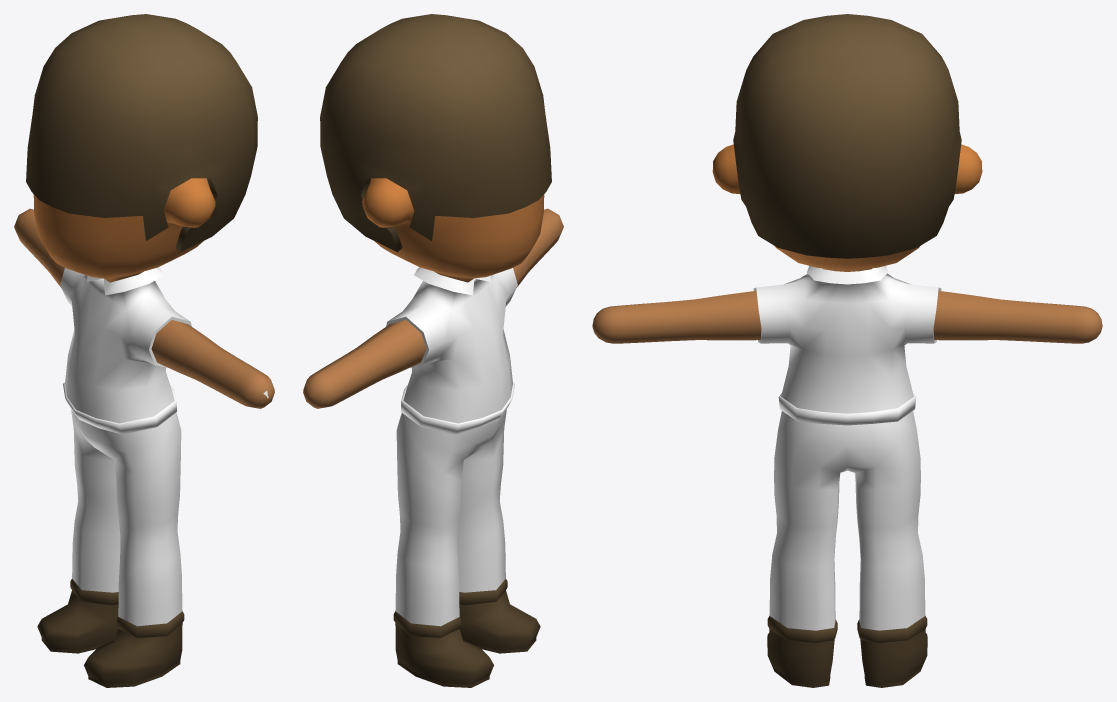
The model's file is MaleStudent-JUSTFBX.fbx.
3 views of the same model, side by side, from view 1: azimuth 30°, elevation 25°; view 2: azimuth 150°, elevation 25°; view 3: azimuth 270°, elevation 25° (orthographic). The views are drawn at different scales.
Parts seen in each view (by area): view 1: Cube.018; view 2: Cube.018; view 3: Cube.018.
Boxes of the visible parts, x1,y1,x2,y2 form: Cube.018: (14,14,274,687); Cube.018: (303,14,563,687); Cube.018: (592,14,1102,687).
Bounding box in the file's own units: 0.733 × 2.13 × 1.51.
